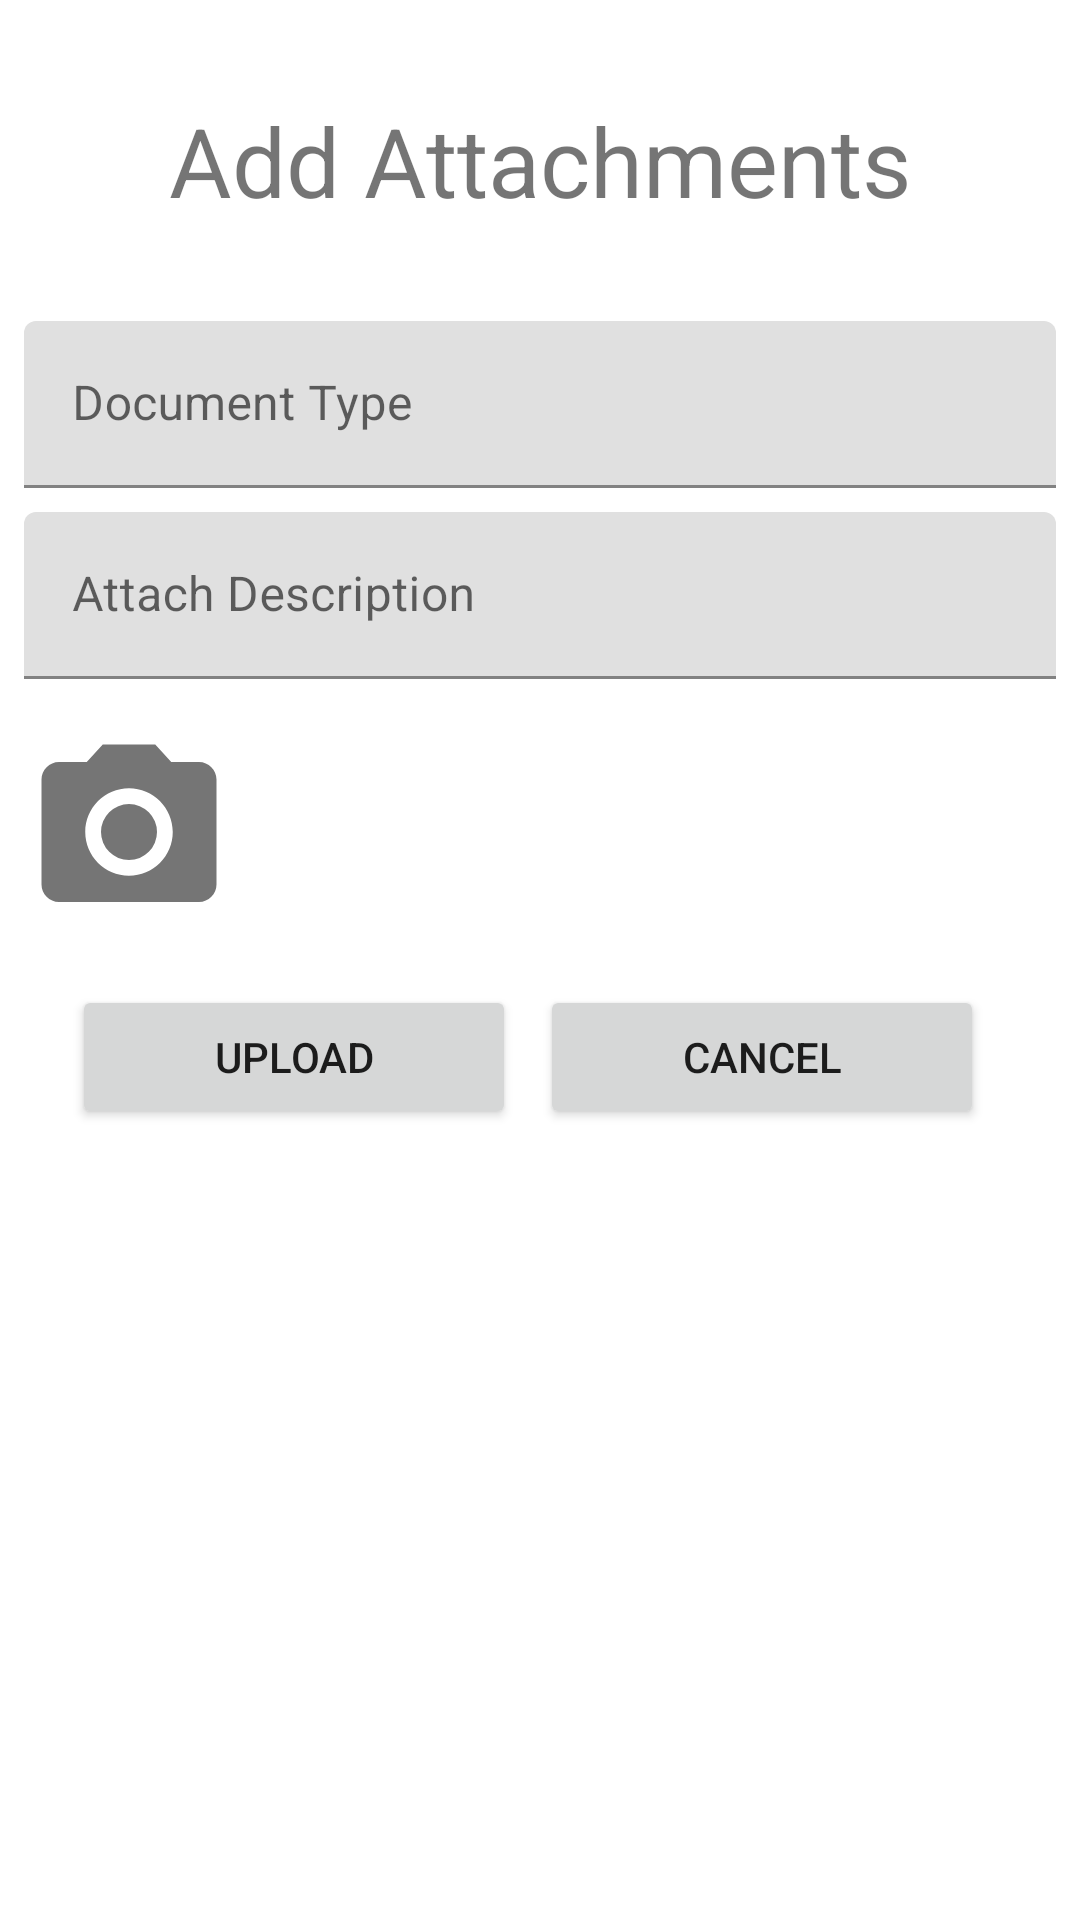

Named icons in this screenshot (1080x1920) and their centers, (x,y):
photo: (129,823)
